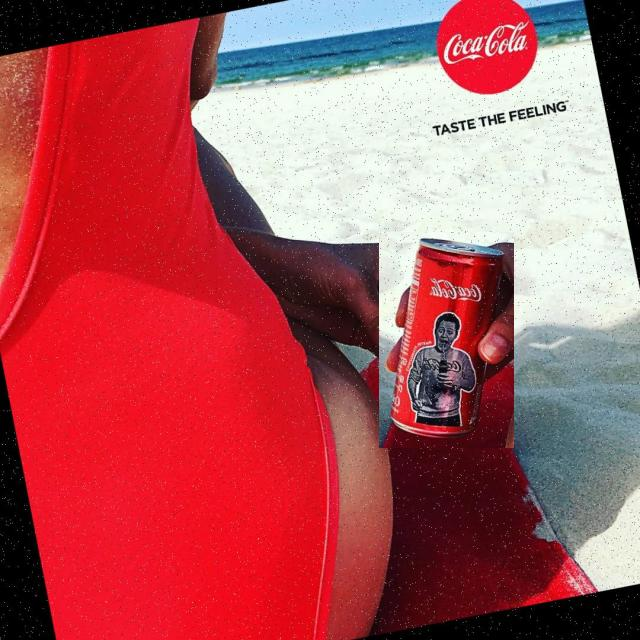coca-cola: (379, 232, 514, 448)
